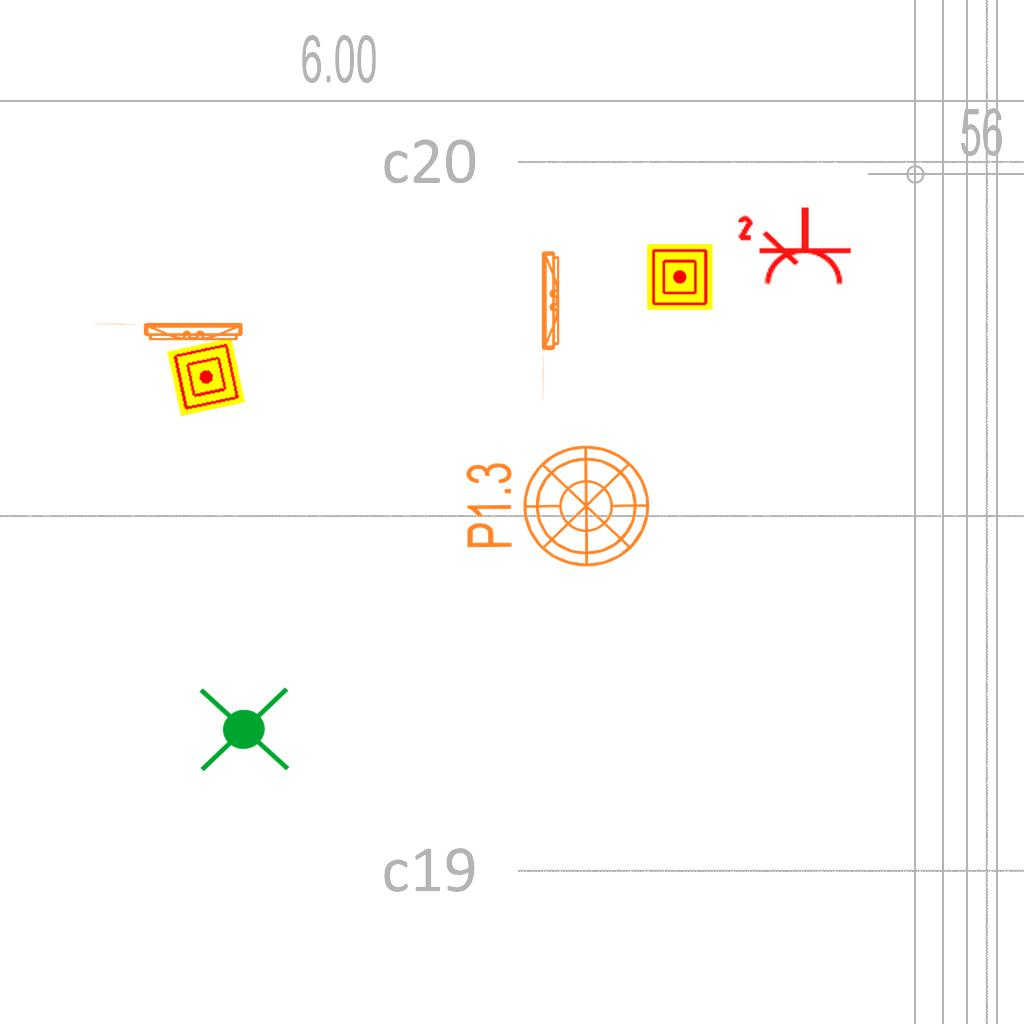Aufbaurundleuchte_LED_Treppenhaus: (448, 431, 653, 570)
NAM-Nichtautomatischer_Melder: (166, 337, 246, 417), (647, 244, 713, 310)
Notlichtbaustein_in_Allgemeinbeleuchtug_engebaut_Einbau_(1UG_und_2UG_Aufbauvaria: (194, 679, 294, 782)
Schukosteckdose_mehrfach: (735, 201, 856, 289)
Sicherheitsleuchte_Wandeinbau: (539, 246, 564, 405), (89, 320, 248, 345)
